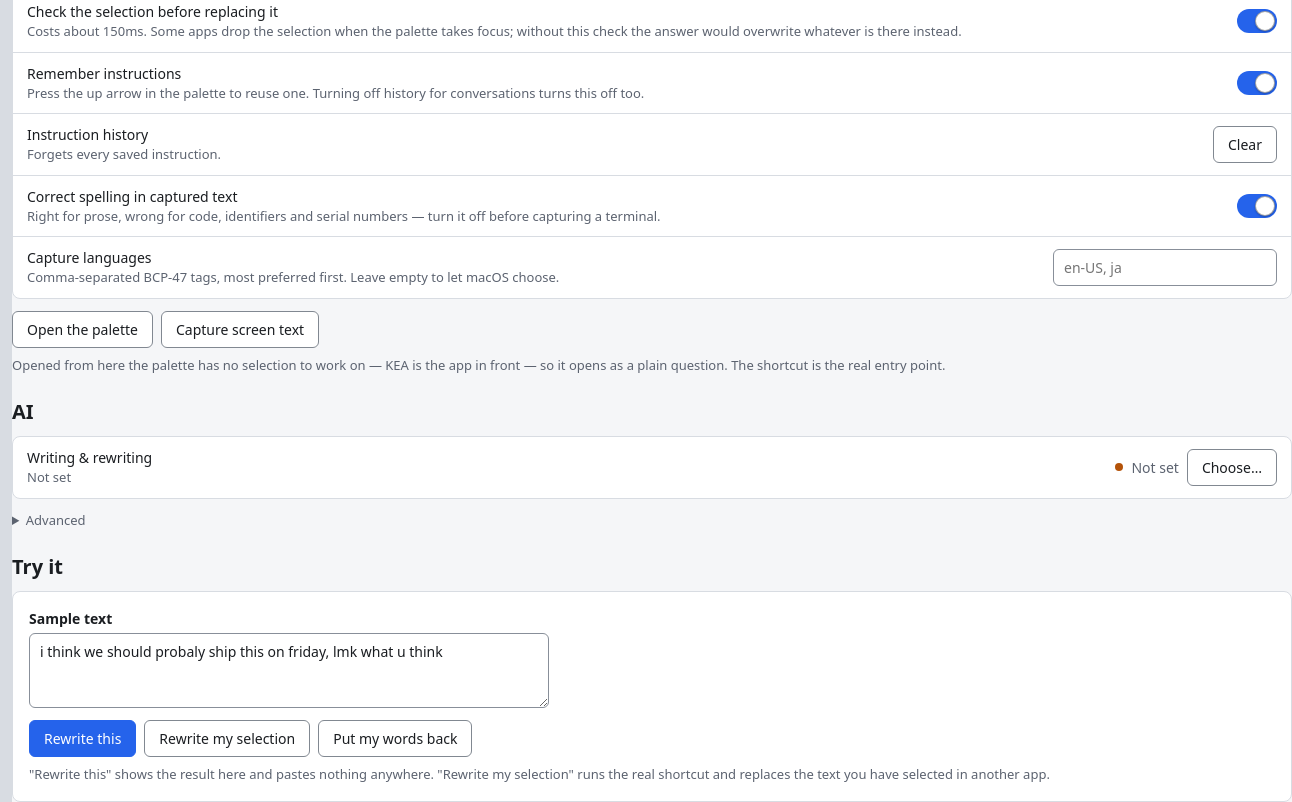
Scenario: RewritePage › offers to put the user's words back, and shows the refusal verbatim
The width and height of the screenshot is (1292, 802).
(page scrolled)
What coordinates should you click on to do the following:
click the button "Put my words back"
I would click on:
 (395, 739)
Its box is [318,720,472,757].
(page scrolled)
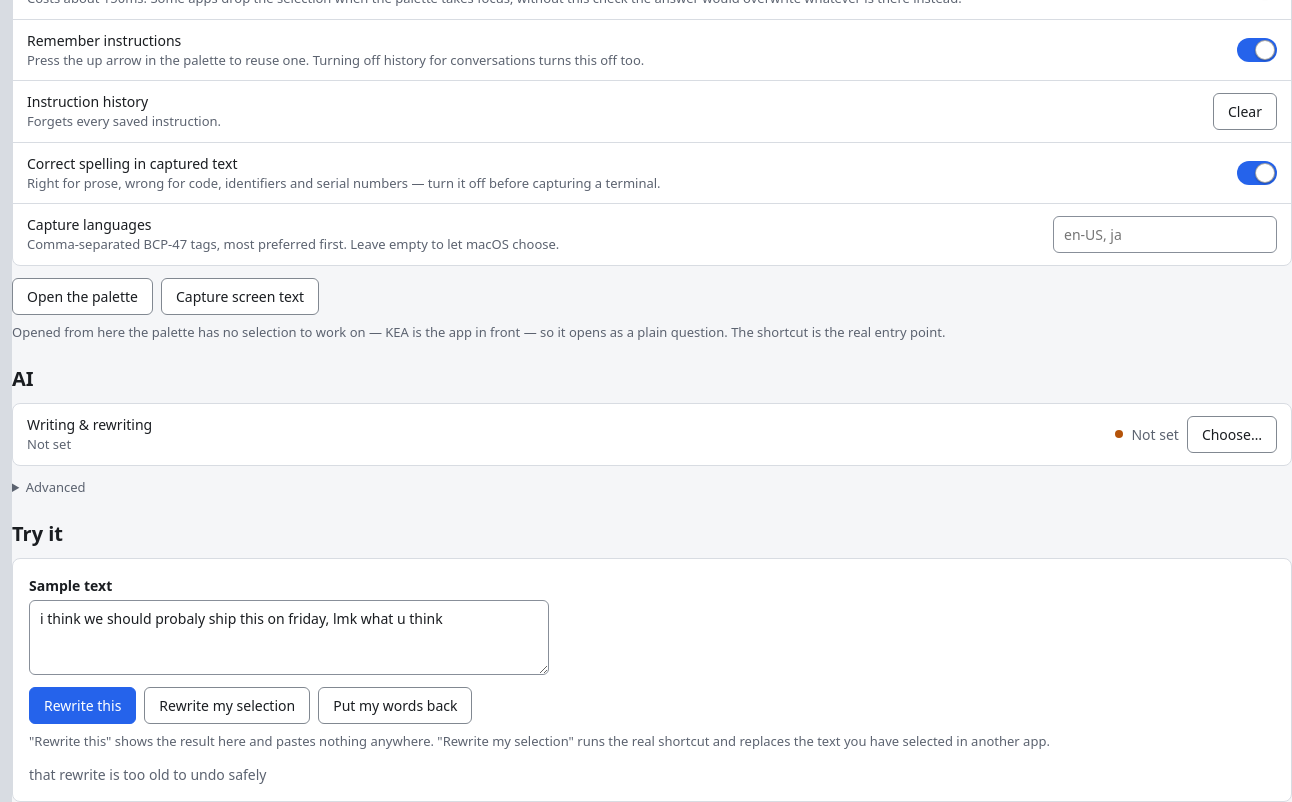
Expected: the text "that rewrite is too old to undo safely" is shown, [29,765,266,784]
